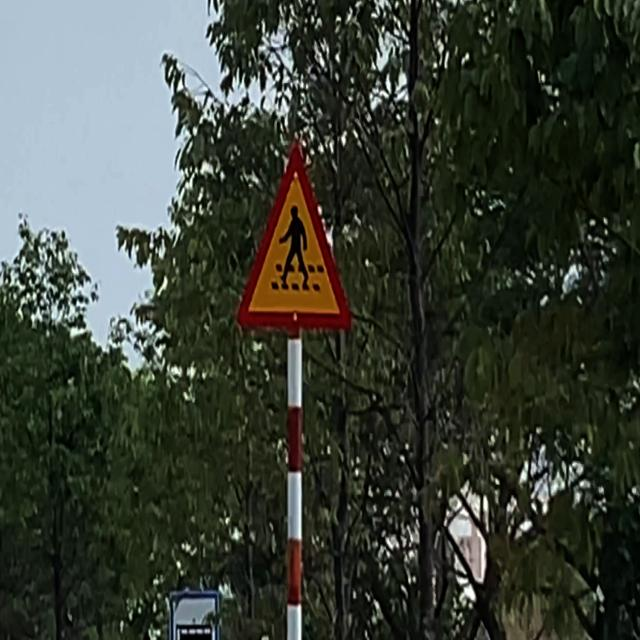Ben xe buyt: (167, 588, 219, 640)
Nguoi di bo cat ngang: (235, 143, 352, 332)
